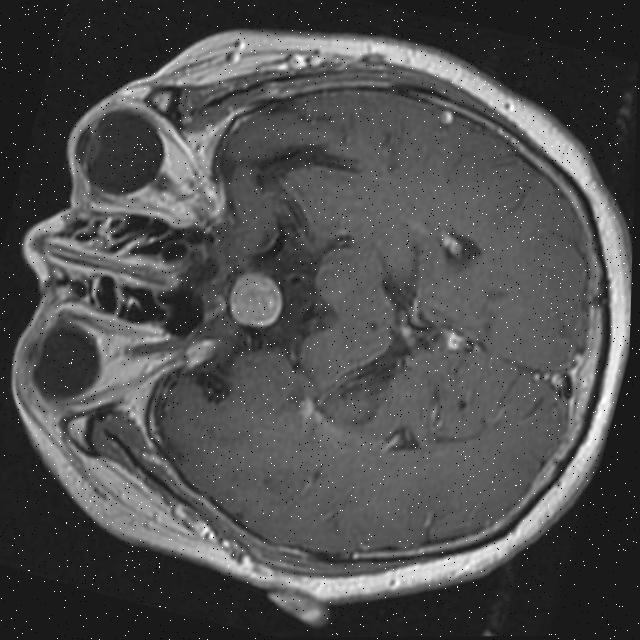Pituitary: (222, 265, 289, 329)
